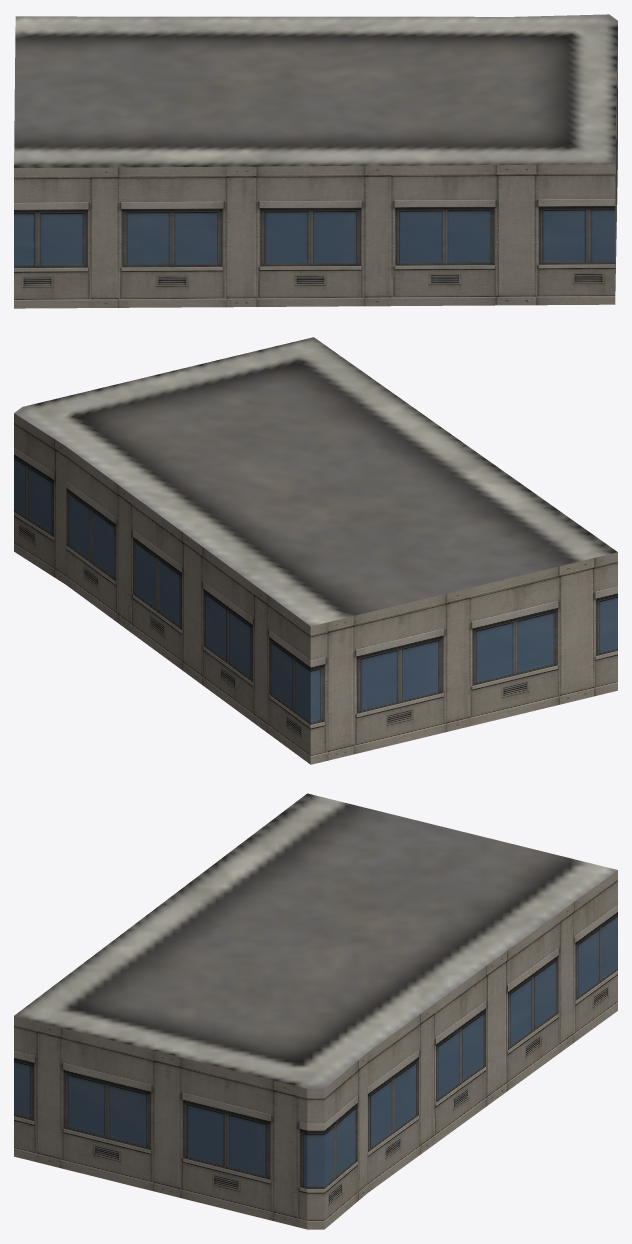
File: building_light_32.glb
3 views of the same model, one above another, from view 1: azimuth 30°, elevation 25°; view 2: azimuth 150°, elevation 25°; view 3: azimuth 270°, elevation 25° (orthographic).
Parts seen in each view (by area): view 1: buildings/saxarba/building_light/building_light_32; view 2: buildings/saxarba/building_light/building_light_32; view 3: buildings/saxarba/building_light/building_light_32.
Boxes of the visible parts, x1,y1,x2,y2 form: buildings/saxarba/building_light/building_light_32: [14, 14, 617, 308]; buildings/saxarba/building_light/building_light_32: [14, 337, 617, 764]; buildings/saxarba/building_light/building_light_32: [14, 793, 617, 1229].
Bounding box in the file's own units: 81 × 18 × 70.
